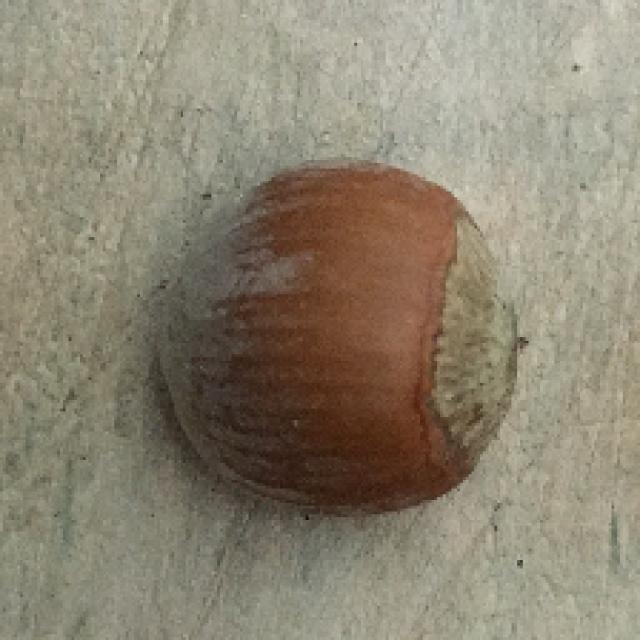qualityHazelnut: (139, 151, 529, 510)
